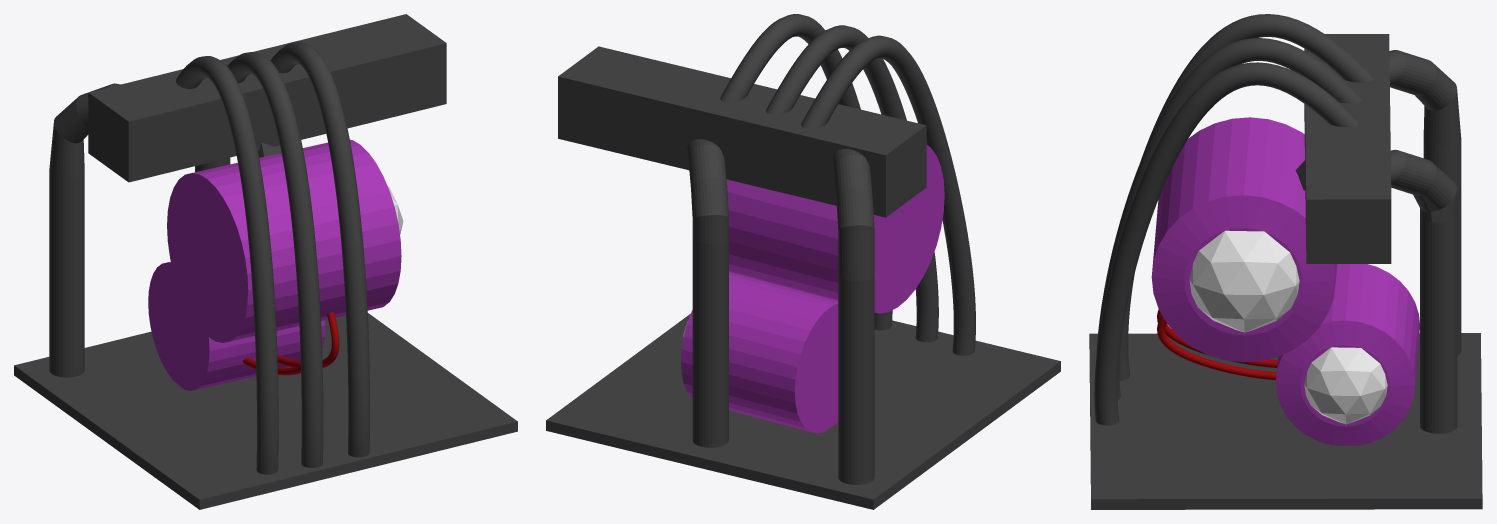
File: PowerGenlevel5.fbx
The picture shows the model from 3 angles, left to right: view 1: azimuth 30°, elevation 25°; view 2: azimuth 150°, elevation 25°; view 3: azimuth 270°, elevation 25°; orthographic projection. The views are drawn at different scales.
Visible parts, largest first — view 1: Cube, Cube.001, Cylinder.001, NurbsPath.002, NurbsPath, NurbsPath.001, Cylinder, NurbsPath.003; view 2: Cube, Cube.001, Cylinder.001, Cylinder, NurbsPath.002, NurbsPath.001, NurbsPath; view 3: Cube, Cylinder.001, Cylinder, Cube.001, NurbsPath, NurbsPath.001, NurbsPath.002, NurbsPath.003, NurbsPath.004.
Boxes of the visible parts, x1=… form: Cube: x1=14, y1=83, x2=517, y2=509; Cube.001: x1=88, y1=14, x2=446, y2=182; Cylinder.001: x1=167, y1=139, x2=403, y2=342; NurbsPath.002: x1=176, y1=56, x2=278, y2=474; NurbsPath: x1=270, y1=42, x2=369, y2=457; NurbsPath.001: x1=227, y1=52, x2=323, y2=467; Cylinder: x1=148, y1=261, x2=325, y2=390; NurbsPath.003: x1=277, y1=312, x2=339, y2=367; Cube: x1=546, y1=139, x2=1060, y2=509; Cube.001: x1=558, y1=46, x2=926, y2=217; Cylinder.001: x1=726, y1=145, x2=944, y2=313; Cylinder: x1=681, y1=272, x2=838, y2=433; NurbsPath.002: x1=801, y1=35, x2=975, y2=355; NurbsPath.001: x1=766, y1=25, x2=938, y2=342; NurbsPath: x1=720, y1=14, x2=892, y2=330; Cube: x1=1089, y1=50, x2=1482, y2=509; Cylinder.001: x1=1151, y1=117, x2=1337, y2=362; Cylinder: x1=1276, y1=264, x2=1419, y2=445; Cube.001: x1=1304, y1=34, x2=1391, y2=263; NurbsPath: x1=1094, y1=62, x2=1359, y2=425; NurbsPath.001: x1=1096, y1=38, x2=1362, y2=399; NurbsPath.002: x1=1119, y1=14, x2=1374, y2=380; NurbsPath.003: x1=1157, y1=315, x2=1276, y2=380; NurbsPath.004: x1=1157, y1=309, x2=1277, y2=367.
Size of the model in its own units: 2.2 by 2.16 by 2.01.
